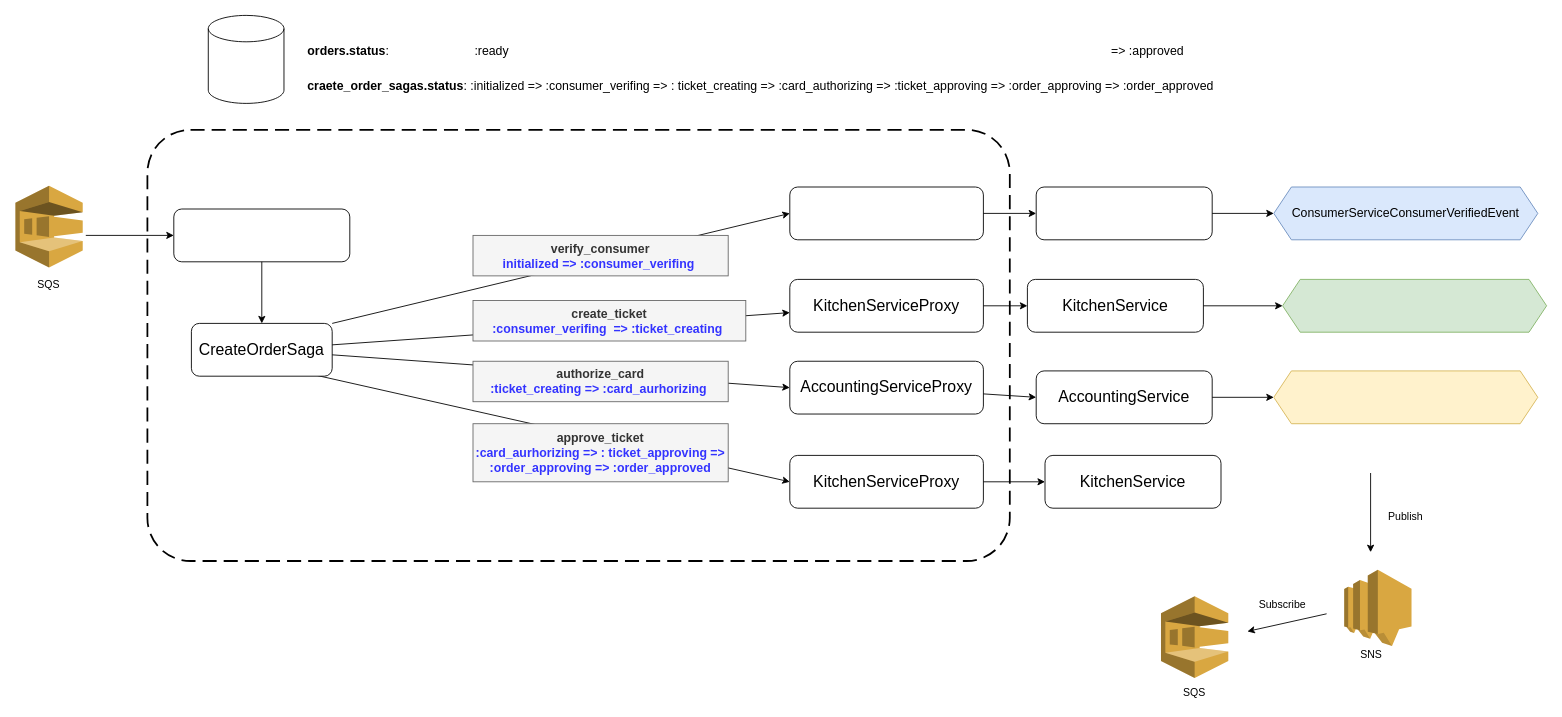
This 1562x717 diagram has some shape labels left out. The centre of each missing label's shape, as x and y in pixels:
"'KitchenServiceTicketCreatedEvent" belongs at (1414,305).
"AccountingServiceCardAuthorizedEvent" belongs at (1405,397).
"ConsumerService" belongs at (1123,213).
"ConsumerServiceProxy" belongs at (886,213).
"MySQL" belongs at (245,59).
"PollingEventConsumer" belongs at (261,235).
